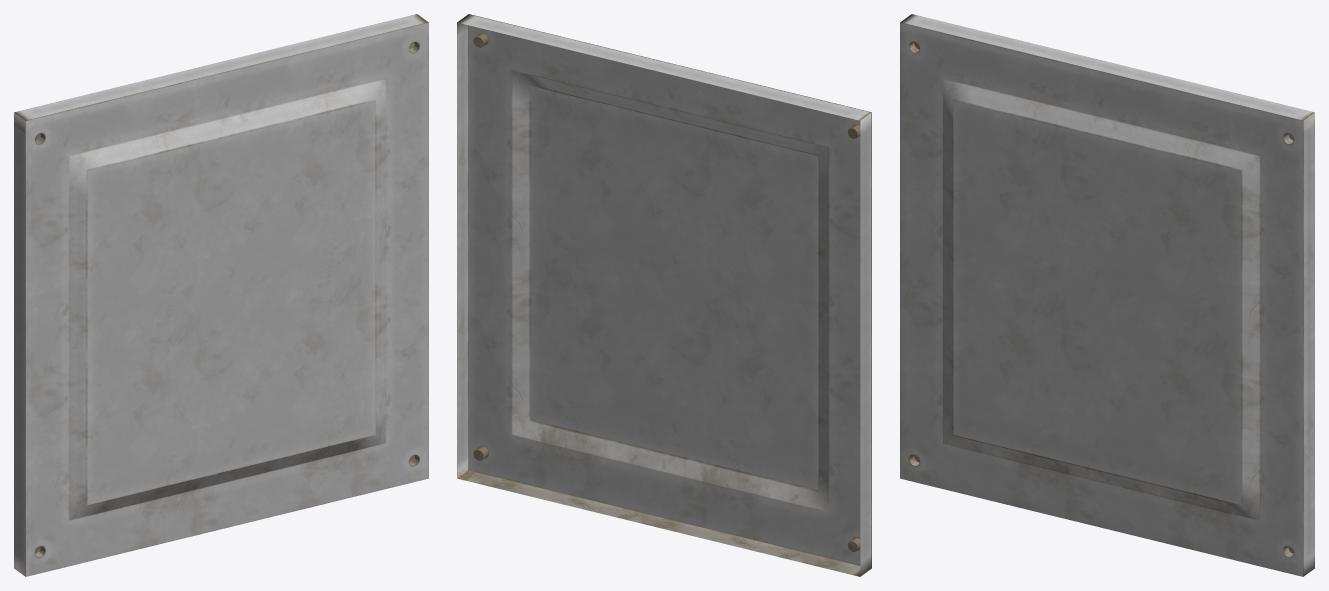
File: TileMural2.fbx
3 views of the same model, side by side, from view 1: azimuth 30°, elevation 25°; view 2: azimuth 150°, elevation 25°; view 3: azimuth 330°, elevation 25° (orthographic).
Parts seen in each view (by area): view 1: Plane; view 2: Plane; view 3: Plane.
Boxes of the visible parts, box(x1,y1,x2,y2) form: Plane: box(14, 14, 428, 576); Plane: box(457, 14, 871, 576); Plane: box(900, 14, 1314, 576).
Bounding box in the file's own units: 92.52 × 100 × 6.36.
